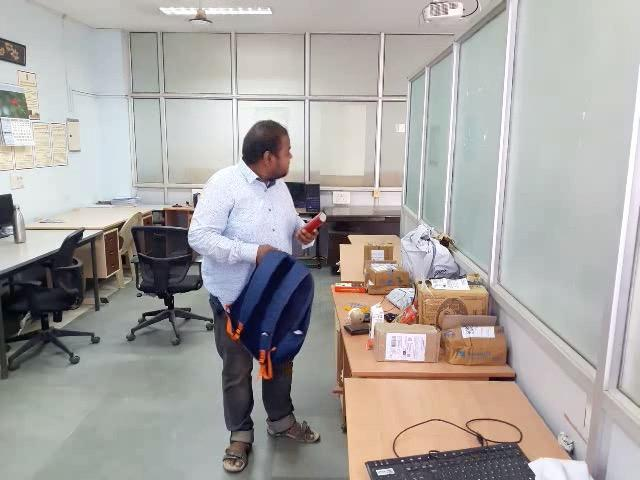shoplifting: (220, 204, 353, 379)
